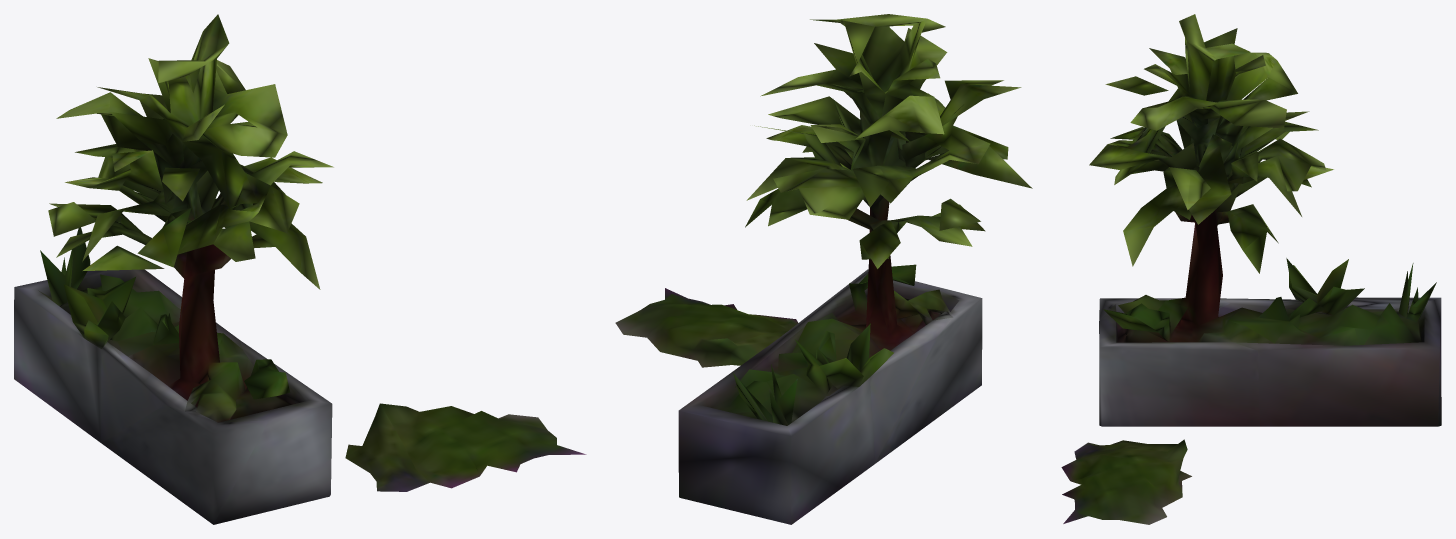
The model's file is 12_plants_grass.glb.
The picture shows the model from 3 angles, left to right: view 1: azimuth 30°, elevation 25°; view 2: azimuth 150°, elevation 25°; view 3: azimuth 270°, elevation 25°; orthographic projection. The views are drawn at different scales.
Parts seen in each view (by area): view 1: PLANTS_GRASS_ROOT; view 2: PLANTS_GRASS_ROOT; view 3: PLANTS_GRASS_ROOT.
Boxes of the visible parts, x1,y1,x2,y2 form: PLANTS_GRASS_ROOT: (14,14,586,524); PLANTS_GRASS_ROOT: (615,14,1032,524); PLANTS_GRASS_ROOT: (1061,14,1441,524).
Size of the model in its own units: 0.8814 by 0.8 by 0.7581.
1 material, 1 textured.
